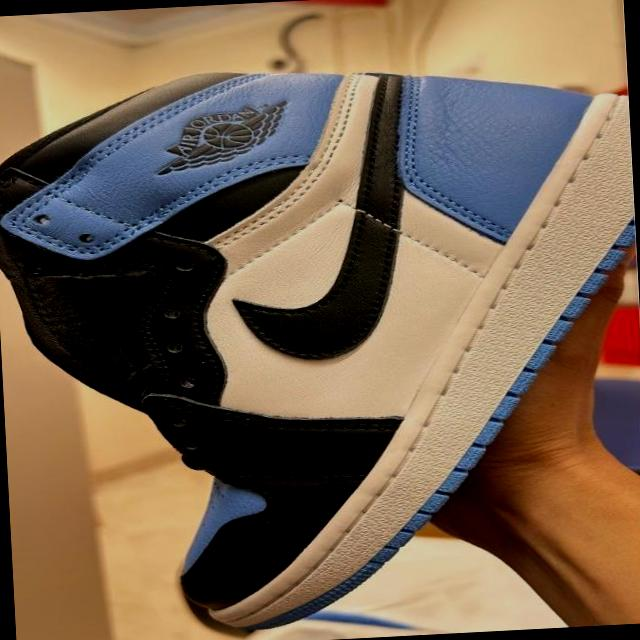nike_original_jordan: (0, 49, 640, 639)
